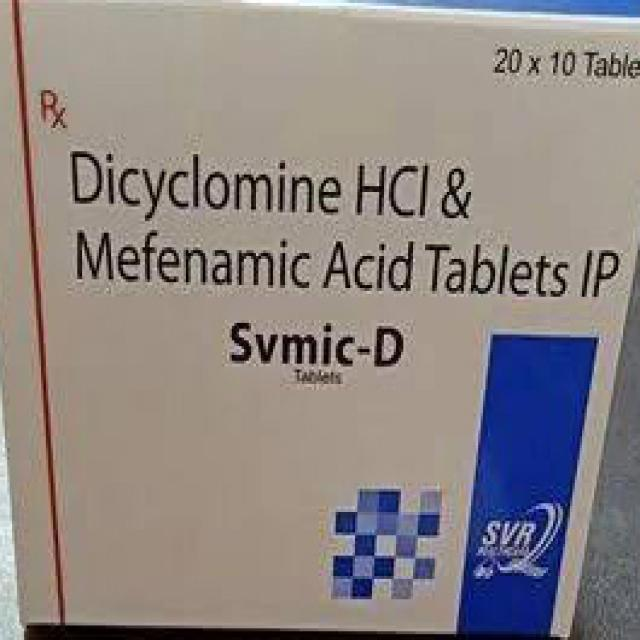drug-name: (226, 322, 410, 369)
